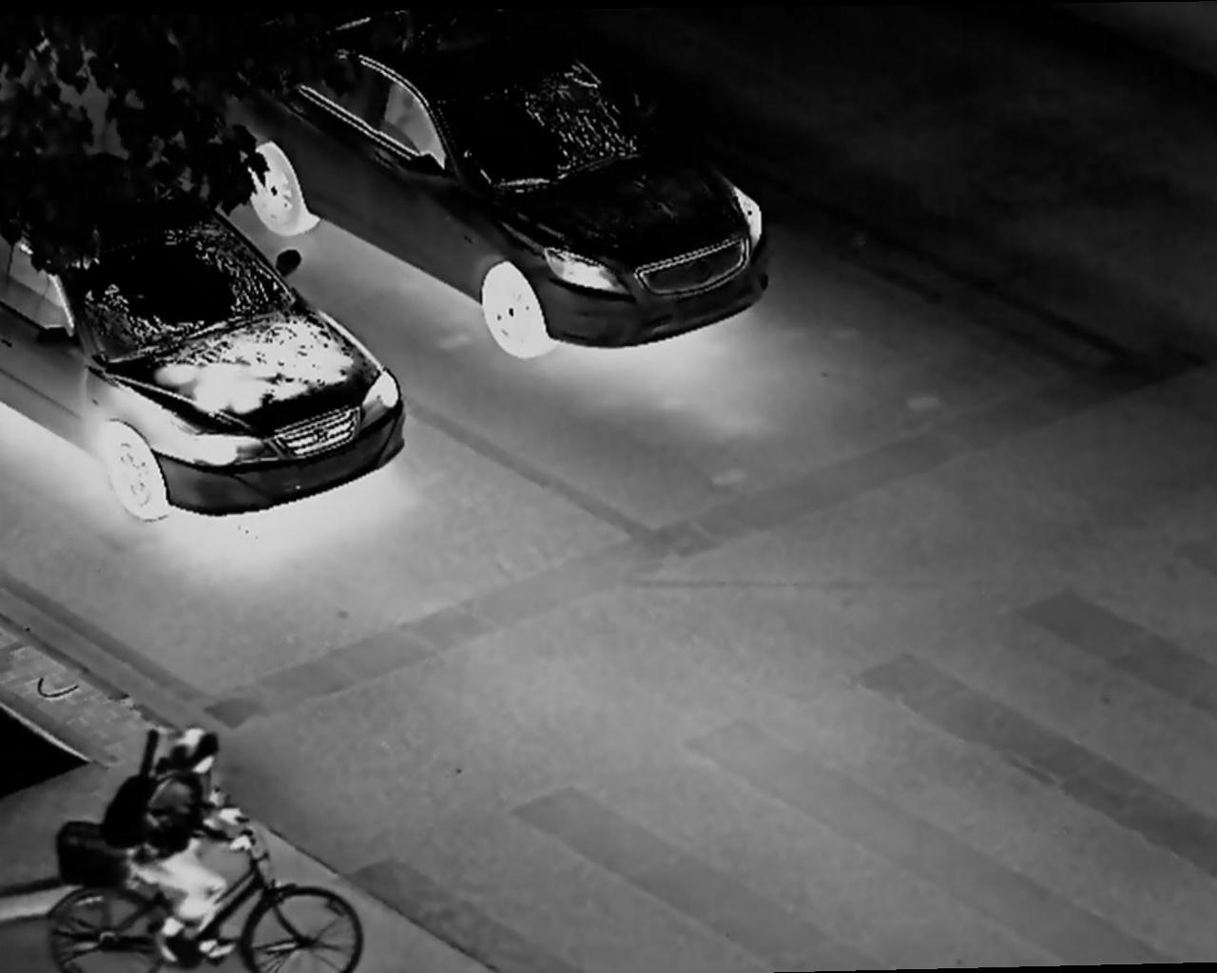person: (128, 715, 252, 965)
